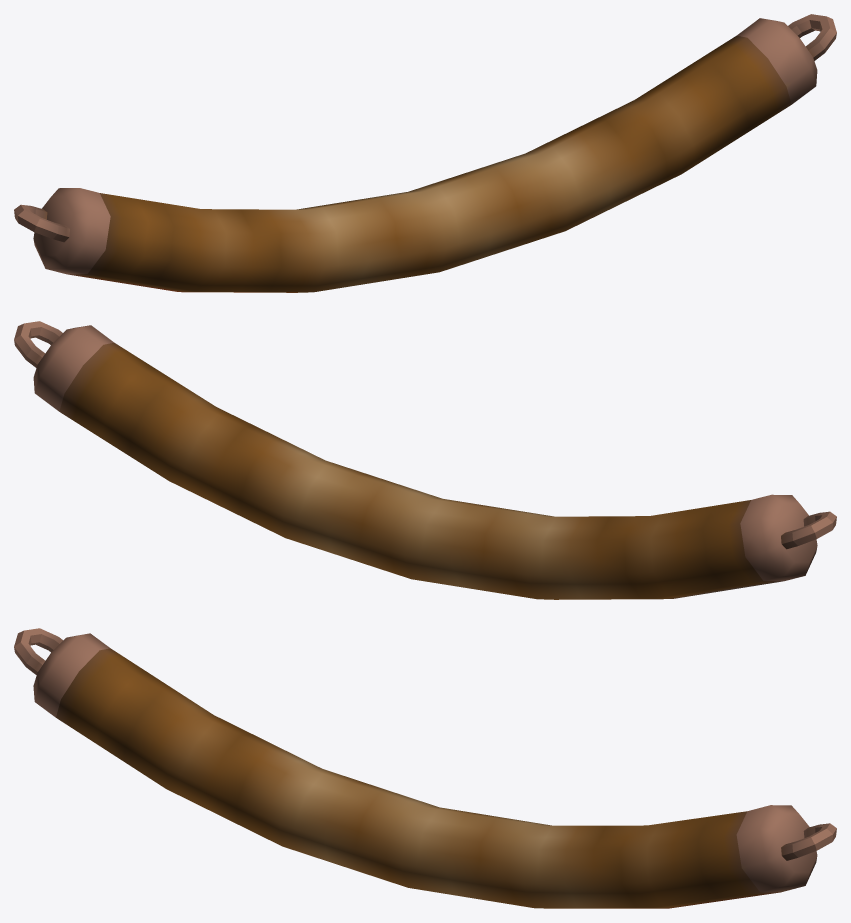
File: fence_0378x04.obj
3 views of the same model, one above another, from view 1: azimuth 30°, elevation 25°; view 2: azimuth 150°, elevation 25°; view 3: azimuth 330°, elevation 25° (orthographic).
Visible parts, largest first — view 1: Rope_Brown.001; view 2: Rope_Brown.001; view 3: Rope_Brown.001.
Boxes of the visible parts, <box> form: Rope_Brown.001: <box>14,14,836,292</box>; Rope_Brown.001: <box>14,321,836,599</box>; Rope_Brown.001: <box>14,628,836,908</box>.
Bounding box in the file's own units: 2.74 × 0.5411 × 0.2604.
